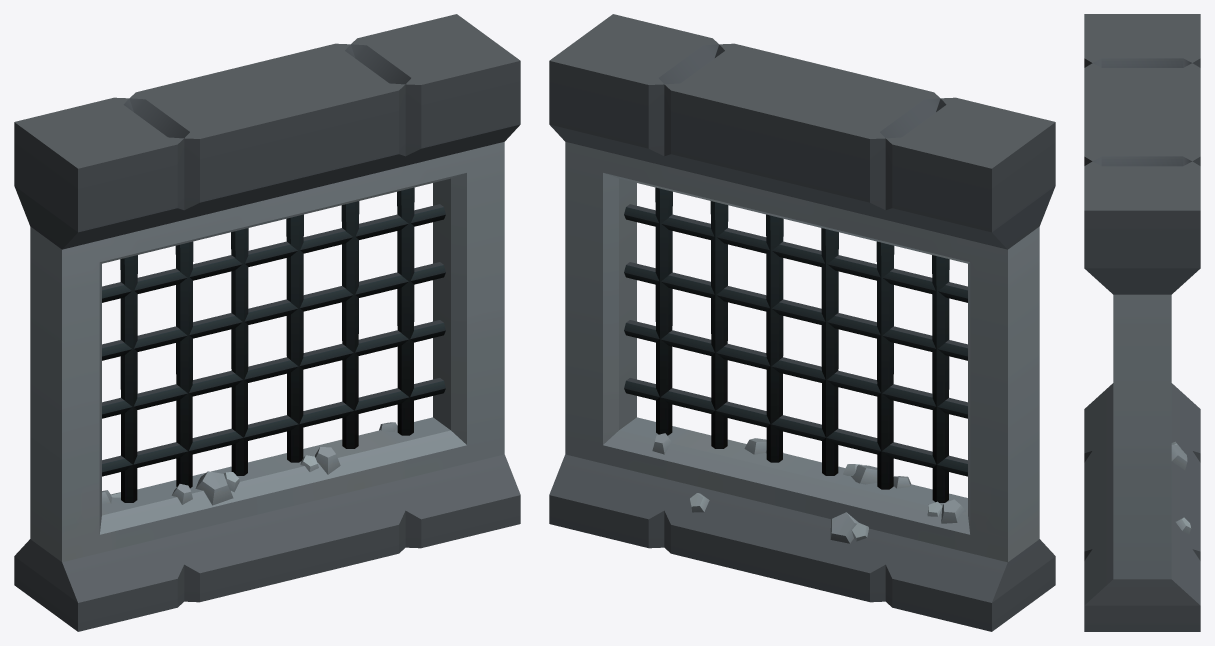
The model's file is kaykit-dungeon-remastered-wall-gated-gltf.glb.
3 views of the same model, side by side, from view 1: azimuth 30°, elevation 25°; view 2: azimuth 150°, elevation 25°; view 3: azimuth 270°, elevation 25° (orthographic). The views are drawn at different scales.
Visible parts, largest first — view 1: wall_gated; view 2: wall_gated; view 3: wall_gated.
Part boxes in pixels (bbox=[...]): wall_gated: bbox=[14, 14, 520, 631]; wall_gated: bbox=[549, 14, 1055, 631]; wall_gated: bbox=[1084, 14, 1200, 631].
Size of the model in its own units: 4 by 4 by 1.
1 material, 1 textured.
